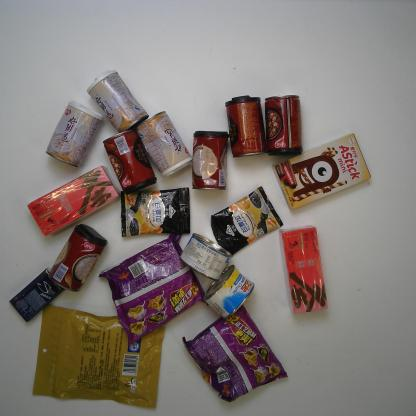Canned Food: (48, 222, 108, 294), (85, 69, 150, 133), (45, 99, 103, 168), (136, 110, 193, 179), (102, 128, 158, 196), (203, 263, 255, 320), (224, 94, 268, 158), (180, 232, 235, 282), (264, 95, 304, 157), (190, 129, 230, 191)
Dessert: (270, 132, 372, 212)
Dried Fruit: (30, 304, 166, 410)
Gum: (8, 266, 66, 323)
Instant Drink: (27, 165, 121, 237), (210, 184, 284, 254), (278, 224, 329, 315), (120, 186, 191, 238)
Instant Noodles: (97, 232, 208, 346), (181, 302, 289, 402)
